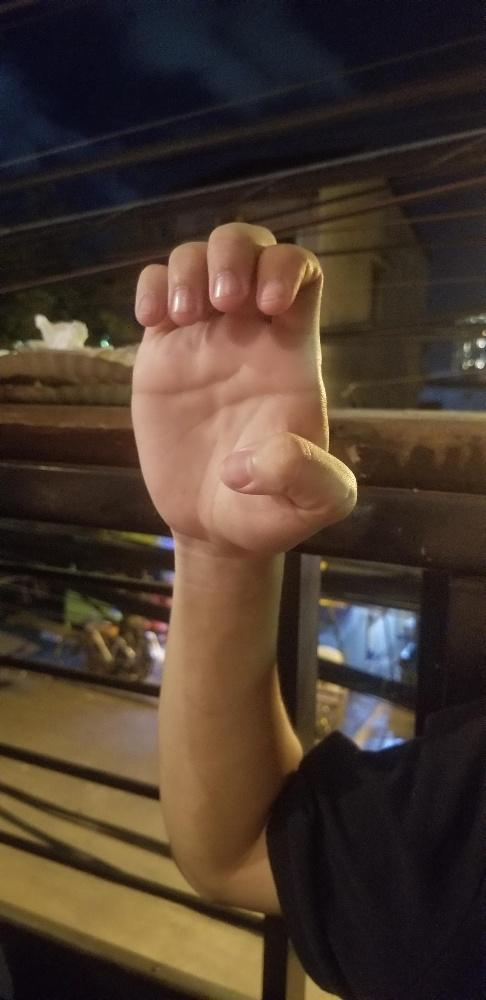e: (126, 216, 360, 556)
